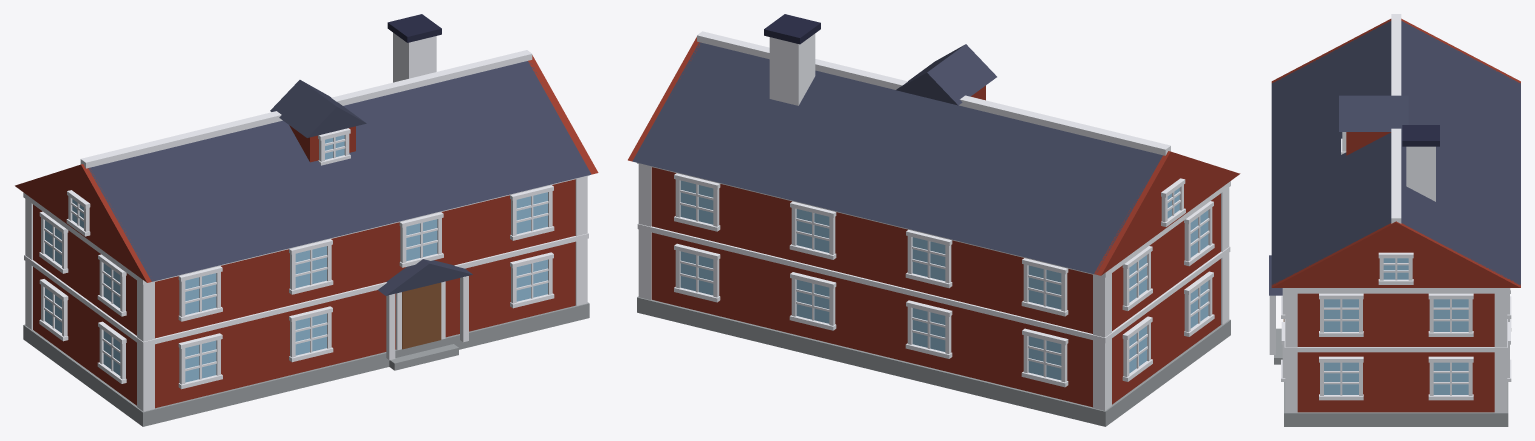
Rendered from house-2x1-2f-stuga-a.glb.
3 views of the same model, side by side, from view 1: azimuth 30°, elevation 25°; view 2: azimuth 150°, elevation 25°; view 3: azimuth 270°, elevation 25° (orthographic). The views are drawn at different scales.
Parts seen in each view (by area): view 1: house-2x1-2f-stuga-a; view 2: house-2x1-2f-stuga-a; view 3: house-2x1-2f-stuga-a.
Part boxes in pixels (bbox=[...]): house-2x1-2f-stuga-a: bbox=[15, 14, 598, 426]; house-2x1-2f-stuga-a: bbox=[628, 14, 1240, 426]; house-2x1-2f-stuga-a: bbox=[1269, 14, 1520, 426].
Bounding box in the file's own units: 2 × 1.1 × 1.01.
Materials: 1 (1 with a texture image).
